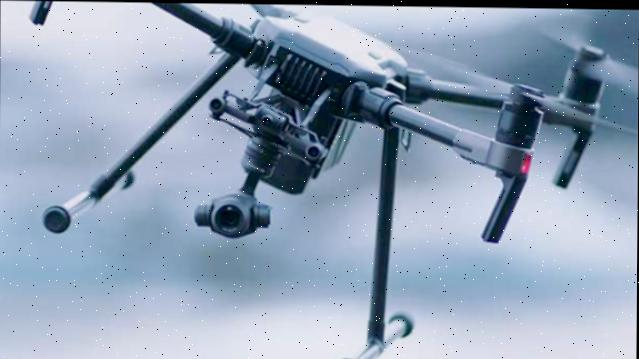drone: (0, 9, 639, 359)
